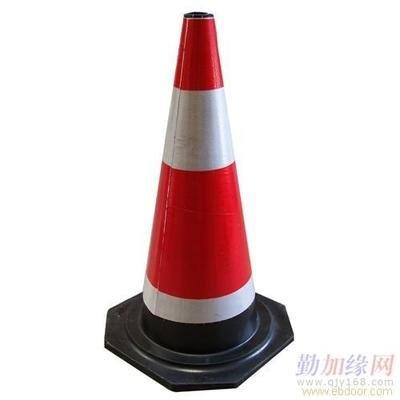cone_barrel: (121, 16, 276, 353)
